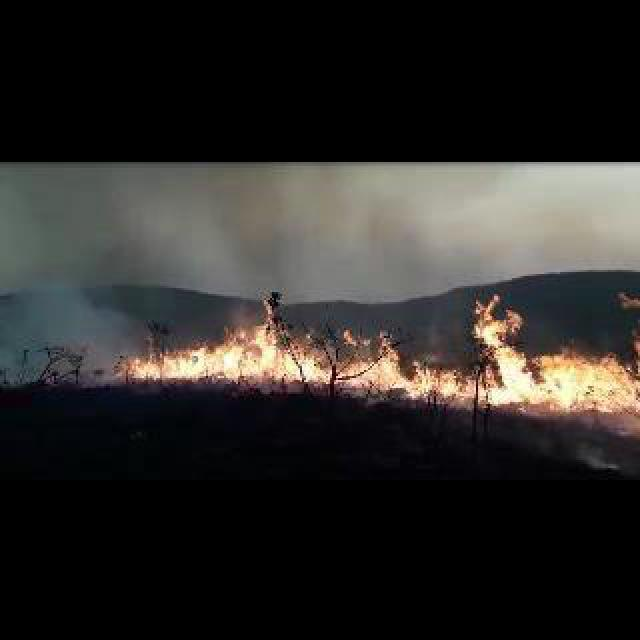fire: (136, 298, 638, 408)
